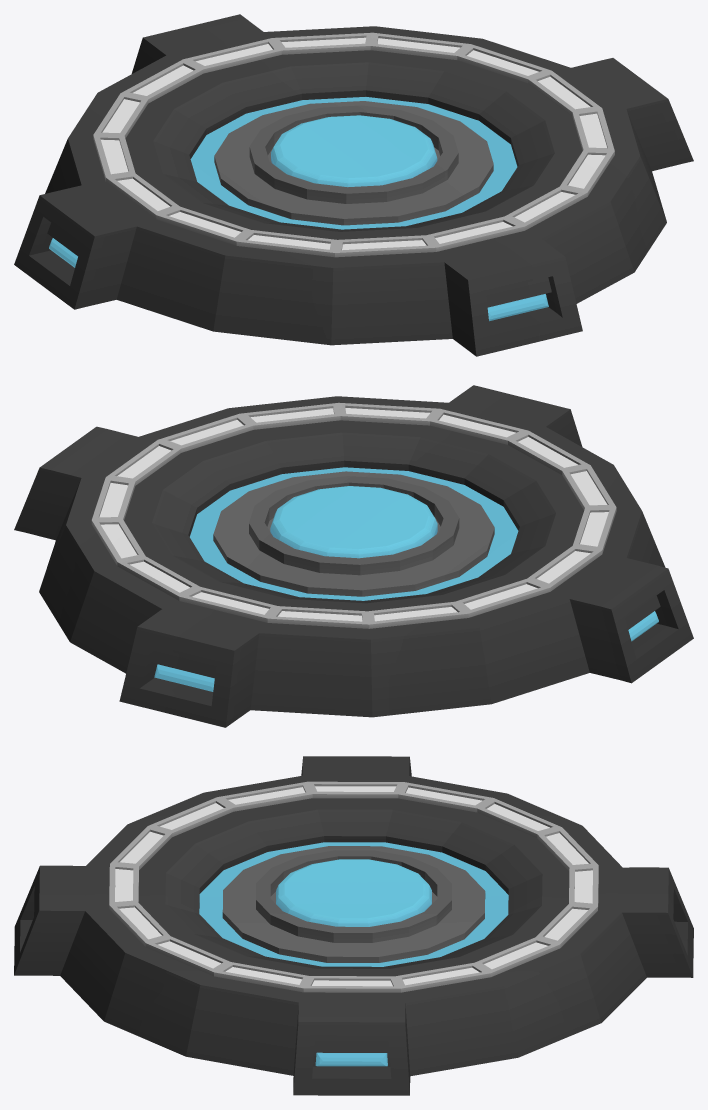
File: Teleporter.glb
3 views of the same model, one above another, from view 1: azimuth 30°, elevation 25°; view 2: azimuth 150°, elevation 25°; view 3: azimuth 270°, elevation 25° (orthographic). The views are drawn at different scales.
Parts seen in each view (by area): view 1: Teleporter; view 2: Teleporter; view 3: Teleporter.
Boxes of the visible parts, x1,y1,x2,y2 form: Teleporter: [14, 14, 693, 356]; Teleporter: [14, 385, 693, 727]; Teleporter: [14, 756, 693, 1095].
Bounding box in the file's own units: 26.31 × 2.86 × 26.31.
2 materials, 2 textured.
